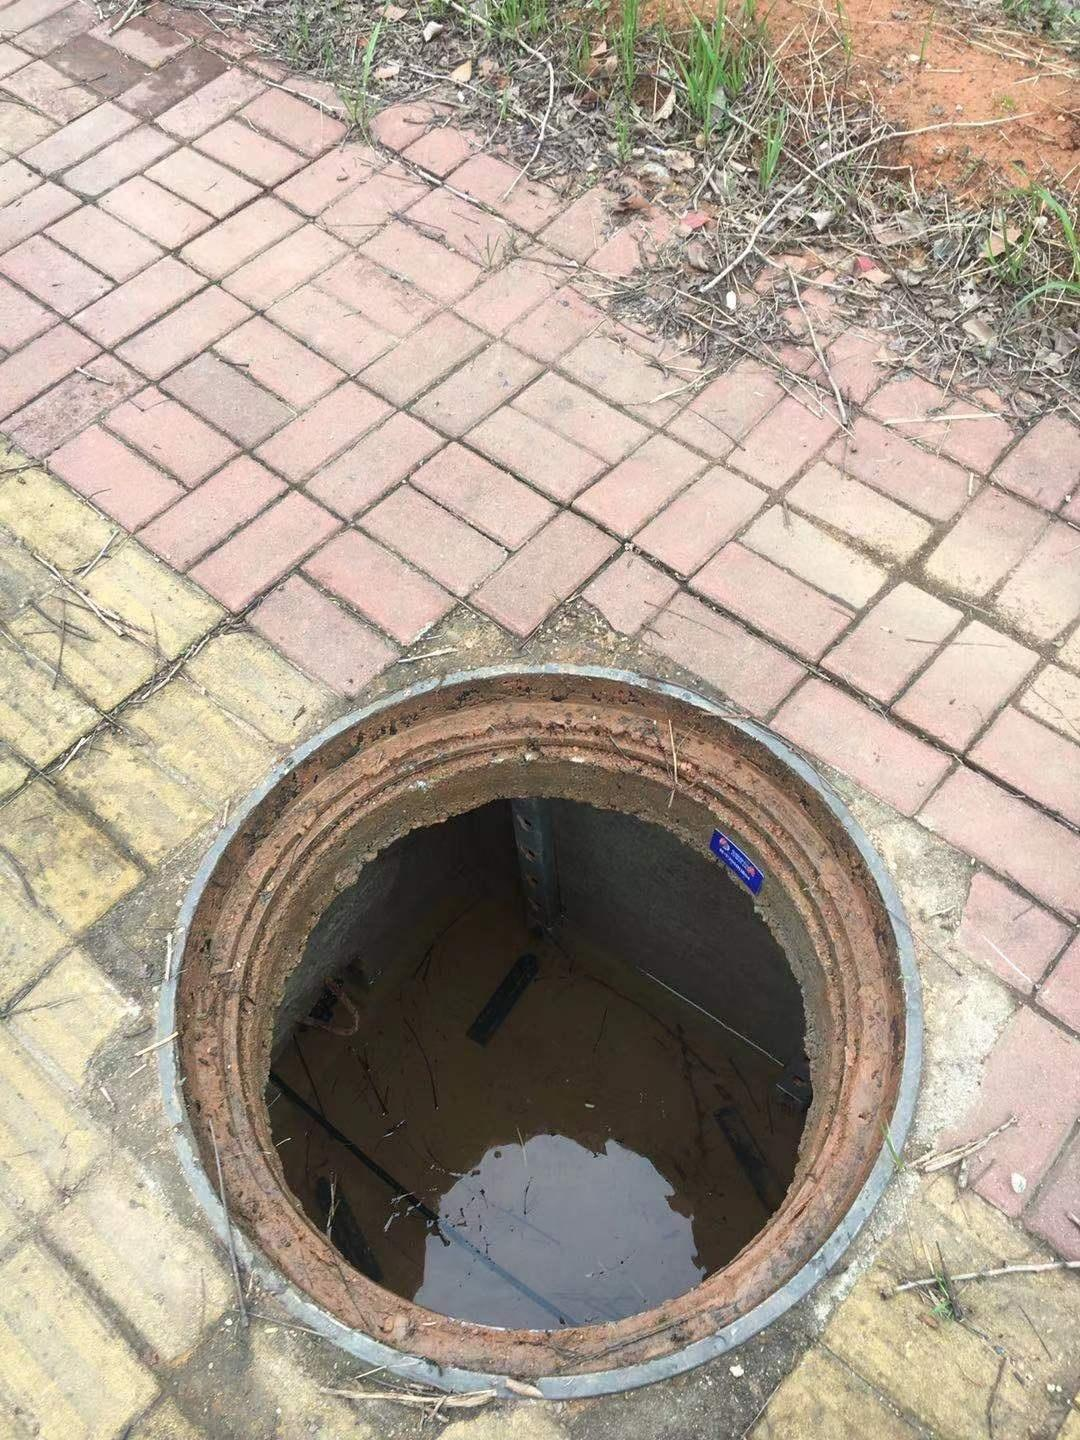wellcover: (140, 634, 995, 1409)
